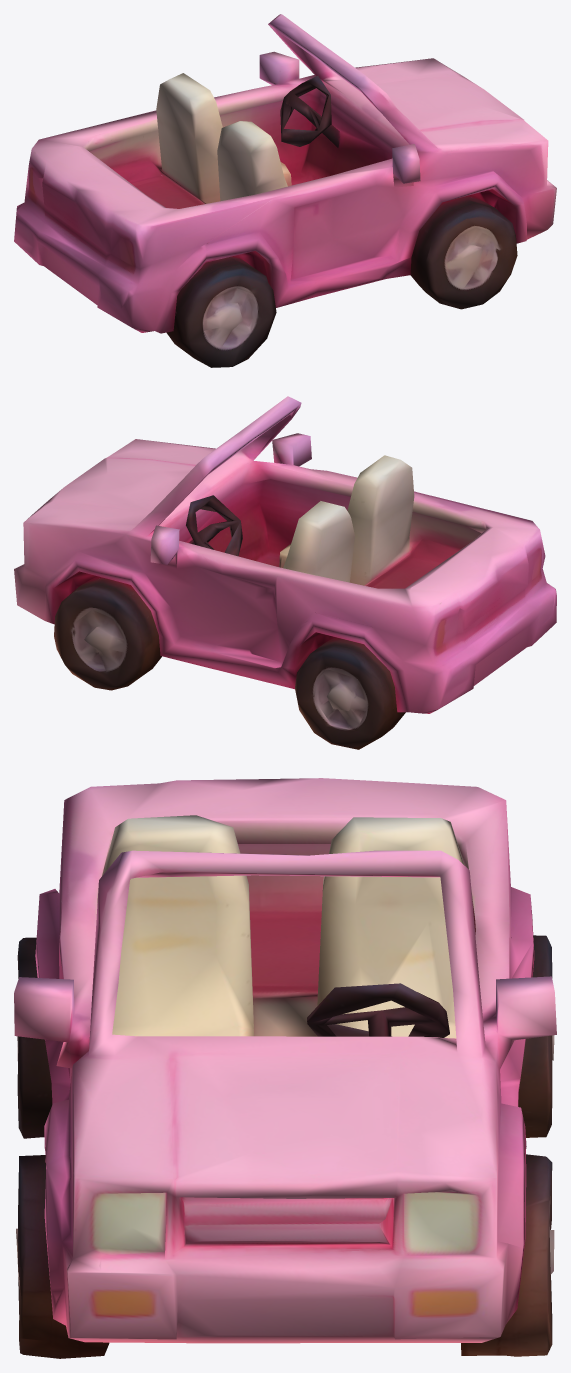
The model's file is parked-car.glb.
The picture shows the model from 3 angles, top to bottom: view 1: azimuth 30°, elevation 25°; view 2: azimuth 150°, elevation 25°; view 3: azimuth 270°, elevation 25°; orthographic projection. The views are drawn at different scales.
Visible parts, largest first — view 1: tripo_node_432ce972-a993-4ced-bec0-ce5866eaacb3; view 2: tripo_node_432ce972-a993-4ced-bec0-ce5866eaacb3; view 3: tripo_node_432ce972-a993-4ced-bec0-ce5866eaacb3.
Boxes of the visible parts, bbox=[...] form: tripo_node_432ce972-a993-4ced-bec0-ce5866eaacb3: bbox=[14, 14, 556, 367]; tripo_node_432ce972-a993-4ced-bec0-ce5866eaacb3: bbox=[14, 396, 556, 749]; tripo_node_432ce972-a993-4ced-bec0-ce5866eaacb3: bbox=[14, 778, 556, 1358].
Bounding box in the file's own units: 1 × 0.5088 × 0.5832.
Materials: 1 (1 with a texture image).
